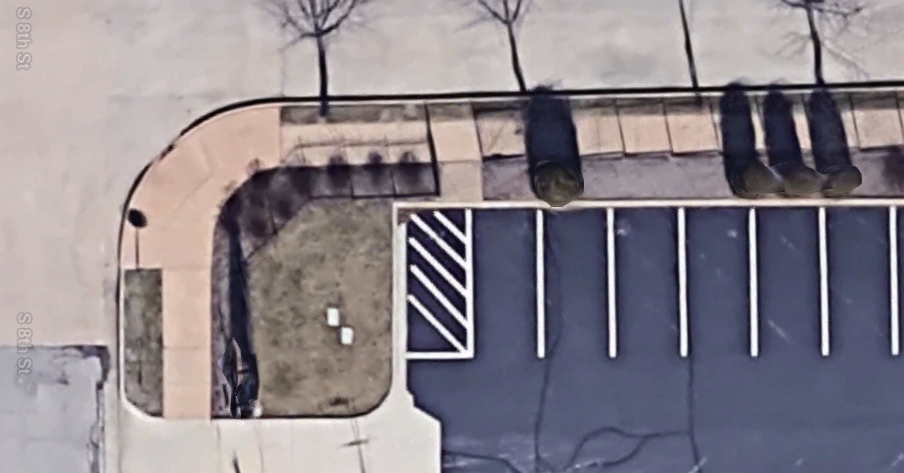Vacant: (610, 208, 685, 356), (539, 207, 612, 358), (822, 207, 896, 355), (751, 206, 824, 355), (469, 207, 540, 357), (684, 207, 754, 355)
